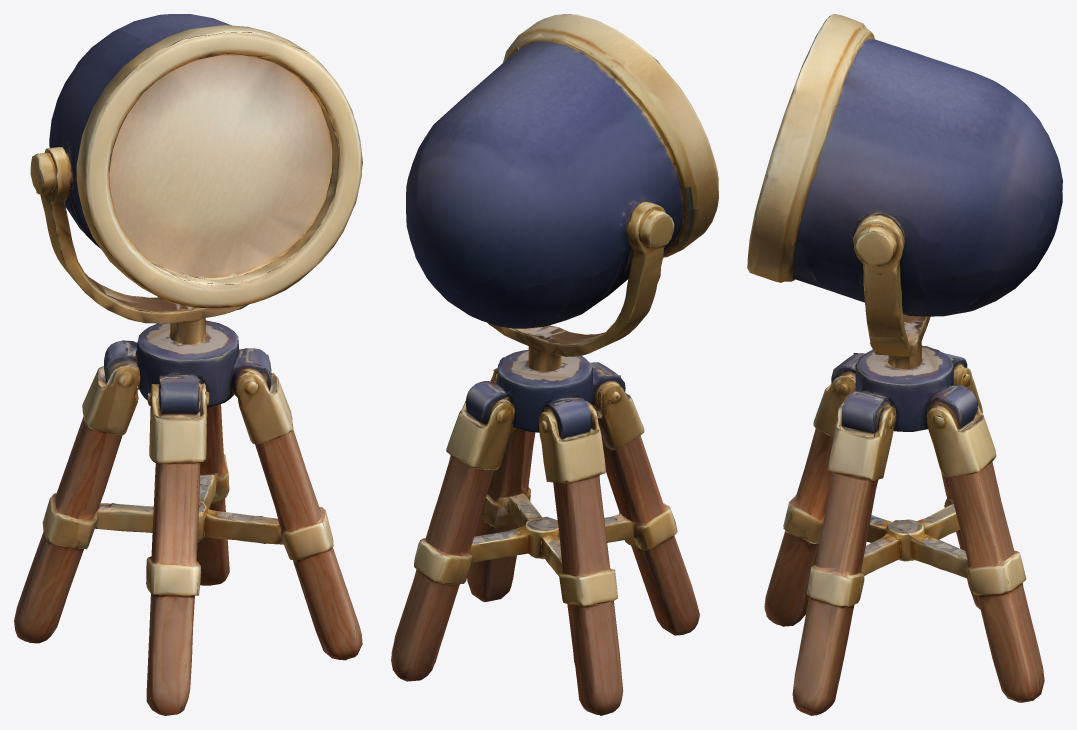
The model's file is Stage_Spotlight.fbx.
The picture shows the model from 3 angles, left to right: view 1: azimuth 30°, elevation 25°; view 2: azimuth 150°, elevation 25°; view 3: azimuth 270°, elevation 25°; orthographic projection. The views are drawn at different scales.
Visible parts, largest first — view 1: Prop_spotlight; view 2: Prop_spotlight; view 3: Prop_spotlight.
Part boxes in pixels (x1,y1,x2,y2): Prop_spotlight: (14, 14, 362, 715); Prop_spotlight: (391, 14, 718, 715); Prop_spotlight: (747, 14, 1062, 715).
Size of the model in its own units: 0.7358 by 1.6 by 0.7299.
Materials: 1 (1 with a texture image).
